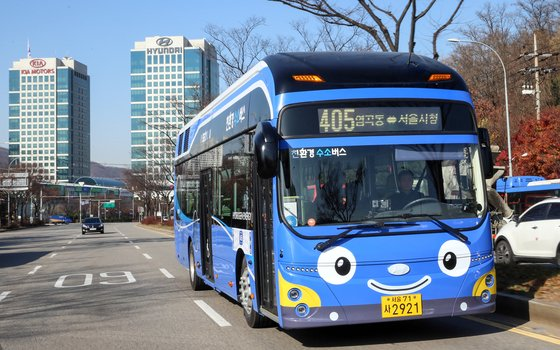bnum: (316, 108, 355, 133)
